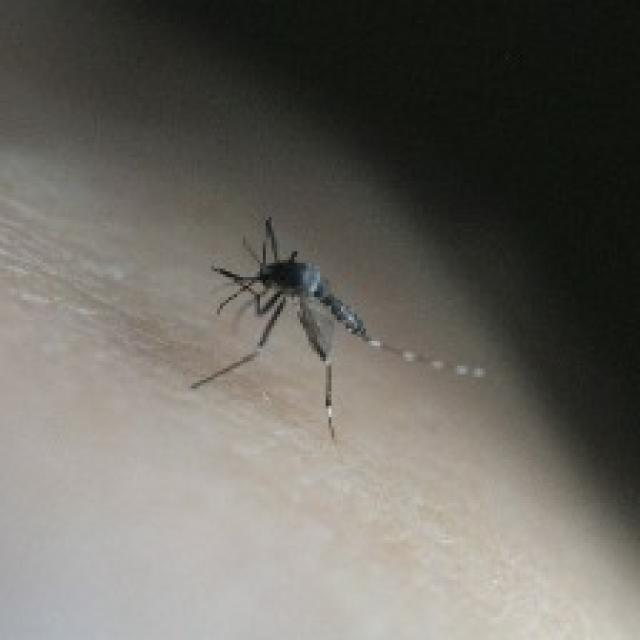aedes: (185, 214, 486, 440)
